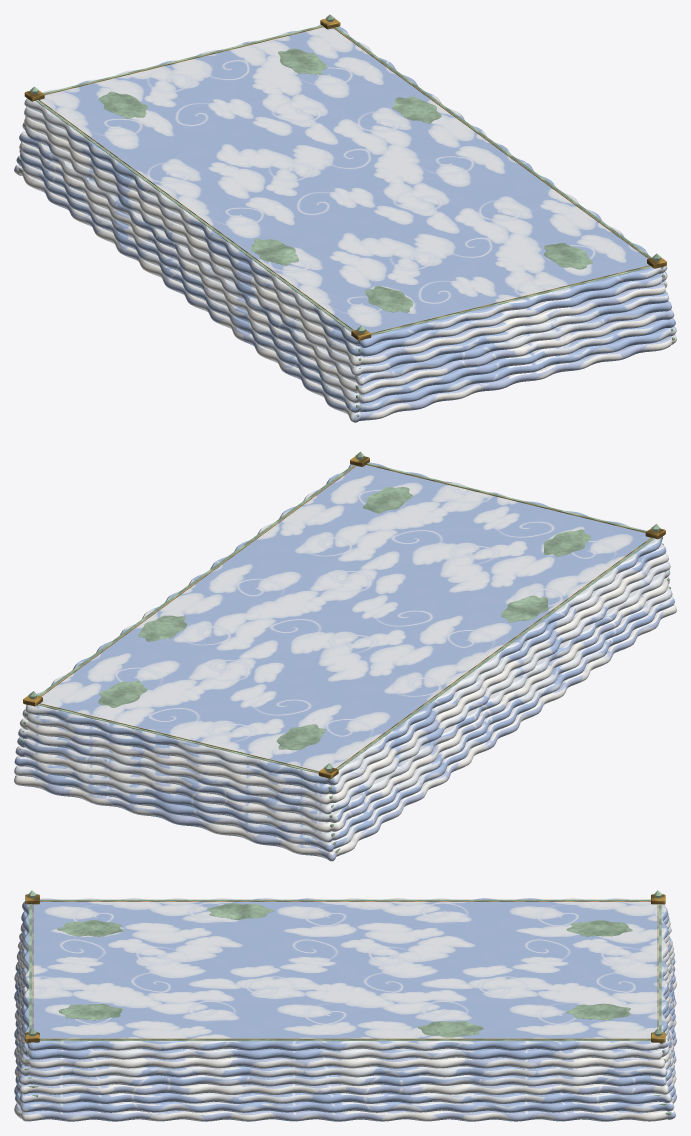
Rendered from arena_09.fbx.
3 views of the same model, one above another, from view 1: azimuth 30°, elevation 25°; view 2: azimuth 150°, elevation 25°; view 3: azimuth 270°, elevation 25° (orthographic). The views are drawn at different scales.
Parts seen in each view (by area): view 1: arena_09; view 2: arena_09; view 3: arena_09.
Boxes of the visible parts, bbox=[...] form: arena_09: bbox=[14, 14, 676, 422]; arena_09: bbox=[14, 451, 676, 861]; arena_09: bbox=[14, 890, 676, 1121].
Bounding box in the file's own units: 54818 × 99813 × 14400.
